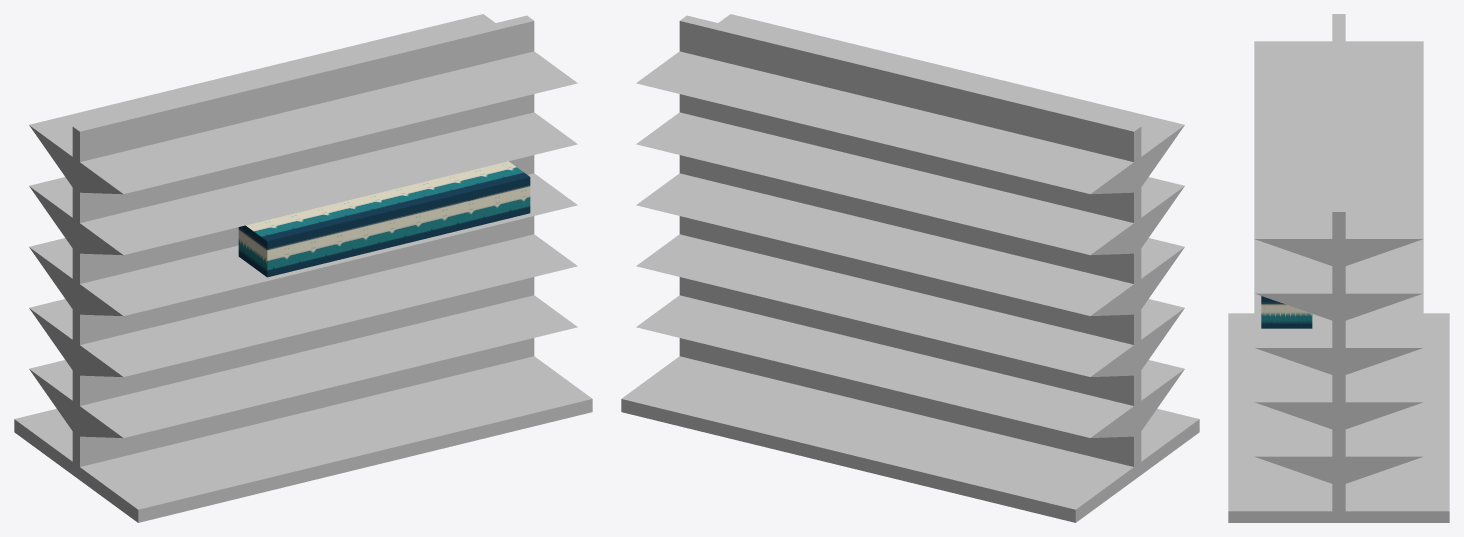
File: shelf_dud.FBX
3 renders of one model, left to right at view 1: azimuth 30°, elevation 25°; view 2: azimuth 150°, elevation 25°; view 3: azimuth 270°, elevation 25°, orthographic. The views are drawn at different scales.
Parts seen in each view (by area): view 1: Box001, Box002; view 2: Box001; view 3: Box001, Box002.
Boxes of the visible parts, x1=… form: Box001: x1=14, y1=14, x2=592, y2=522; Box002: x1=238, y1=161, x2=530, y2=277; Box001: x1=621, y1=14, x2=1199, y2=522; Box001: x1=1228, y1=14, x2=1449, y2=522; Box002: x1=1261, y1=296, x2=1312, y2=328.
Bounding box in the file's own units: 180 × 85 × 132.
2 materials, 1 textured.
